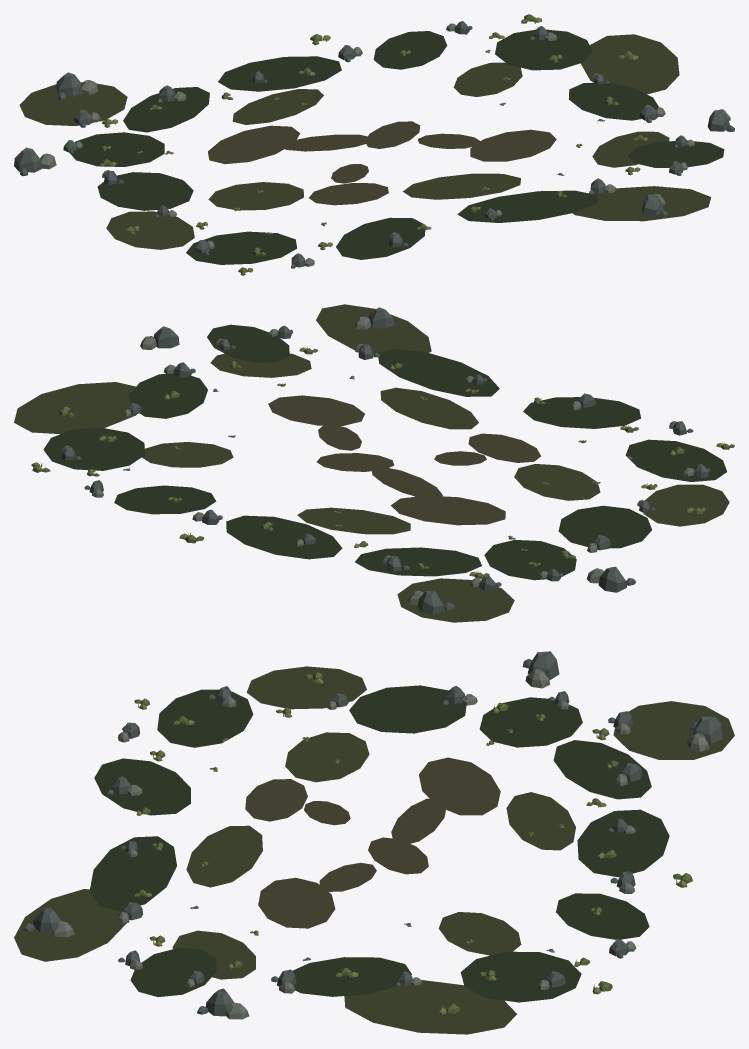
Rendered from arena_environment.glb.
The picture shows the model from 3 angles, top to bottom: view 1: azimuth 30°, elevation 25°; view 2: azimuth 150°, elevation 25°; view 3: azimuth 270°, elevation 25°; orthographic projection. The views are drawn at different scales.
Parts seen in each view (by area): view 1: Patch25, Patch27, Patch17, Patch23, Patch26, Patch19, Patch14, Patch15, Patch24, Patch22, Patch13, Patch16 (+17 smaller); view 2: Patch25, Patch17, Patch23, Patch27, Patch26, Patch19, Patch14, Patch15, Patch24, Patch22, Patch13, Patch16 (+16 smaller); view 3: Patch25, Patch27, Patch17, Patch23, Patch26, Patch19, Patch14, Patch15, Patch13, Patch24, Patch22, Patch16 (+15 smaller).
Part boxes in pixels (x1,y1,x2,y2): Patch25: (580,34,679,94); Patch27: (573,186,711,221); Patch17: (218,56,341,91); Patch23: (457,190,597,222); Patch26: (19,82,127,125); Patch19: (495,29,592,70); Patch14: (97,172,193,210); Patch15: (186,231,296,264); Patch24: (106,211,194,249); Patch22: (336,217,425,259); Patch13: (70,132,164,166); Patch16: (123,87,209,132); Patch25: (14,382,137,434); Patch17: (226,515,342,559); Patch23: (378,348,499,396); Patch27: (316,304,431,355); Patch26: (397,578,514,622); Patch19: (43,427,144,470); Patch14: (558,505,651,548); Patch15: (625,439,726,481); Patch24: (643,484,729,526); Patch22: (523,397,640,428); Patch13: (484,540,576,580); Patch16: (355,547,481,576); Patch25: (344,980,516,1034); Patch27: (14,889,126,961); Patch17: (577,809,669,877); Patch23: (89,836,176,911); Patch26: (613,701,734,759); Patch19: (460,951,581,1002); Patch14: (349,685,466,733); Patch15: (157,689,253,747); Patch13: (479,697,582,747); Patch24: (246,666,366,709); Patch22: (94,758,190,815); Patch16: (553,740,651,799).
Bounding box in the file's own units: 86.12 × 2.41 × 70.72.
